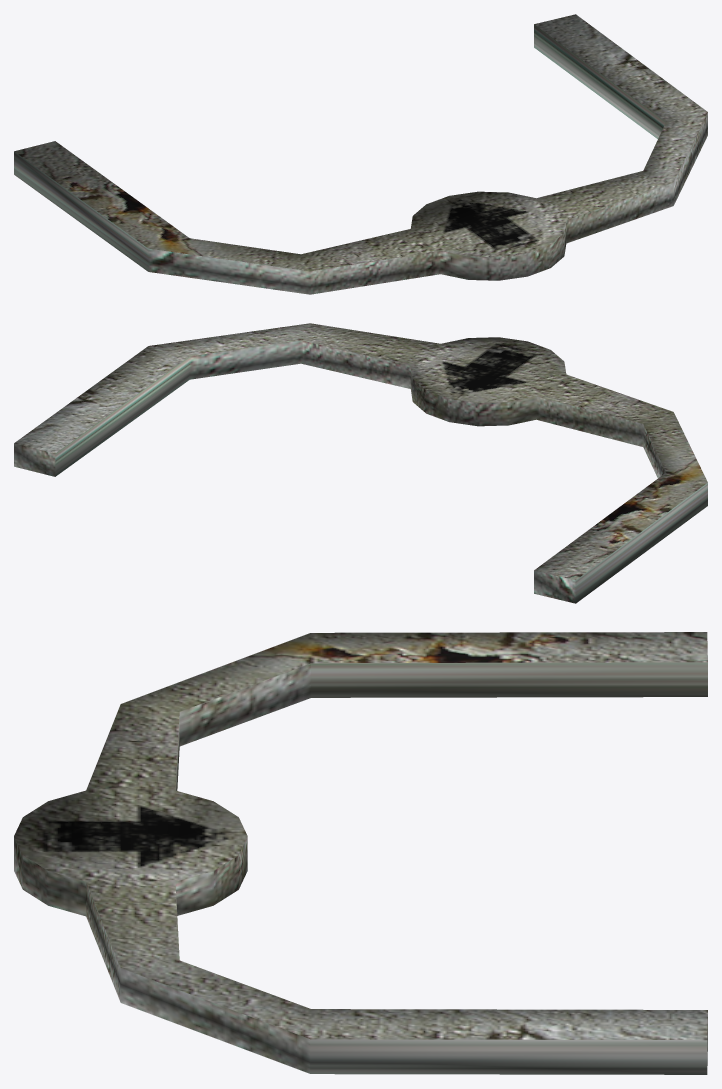
Rendered from bramka.obj.
3 renders of one model, top to bottom at view 1: azimuth 30°, elevation 25°; view 2: azimuth 150°, elevation 25°; view 3: azimuth 270°, elevation 25°, orthographic. The views are drawn at different scales.
Visible parts, largest first — view 1: cylinder1; view 2: cylinder1; view 3: cylinder1.
Part boxes in pixels (x1,y1,x2,y2): cylinder1: (14, 14, 707, 294); cylinder1: (14, 323, 707, 603); cylinder1: (14, 632, 707, 1074).
Size of the model in its own units: 8.26 by 0.328 by 5.94.
Materials: 1 (1 with a texture image).
